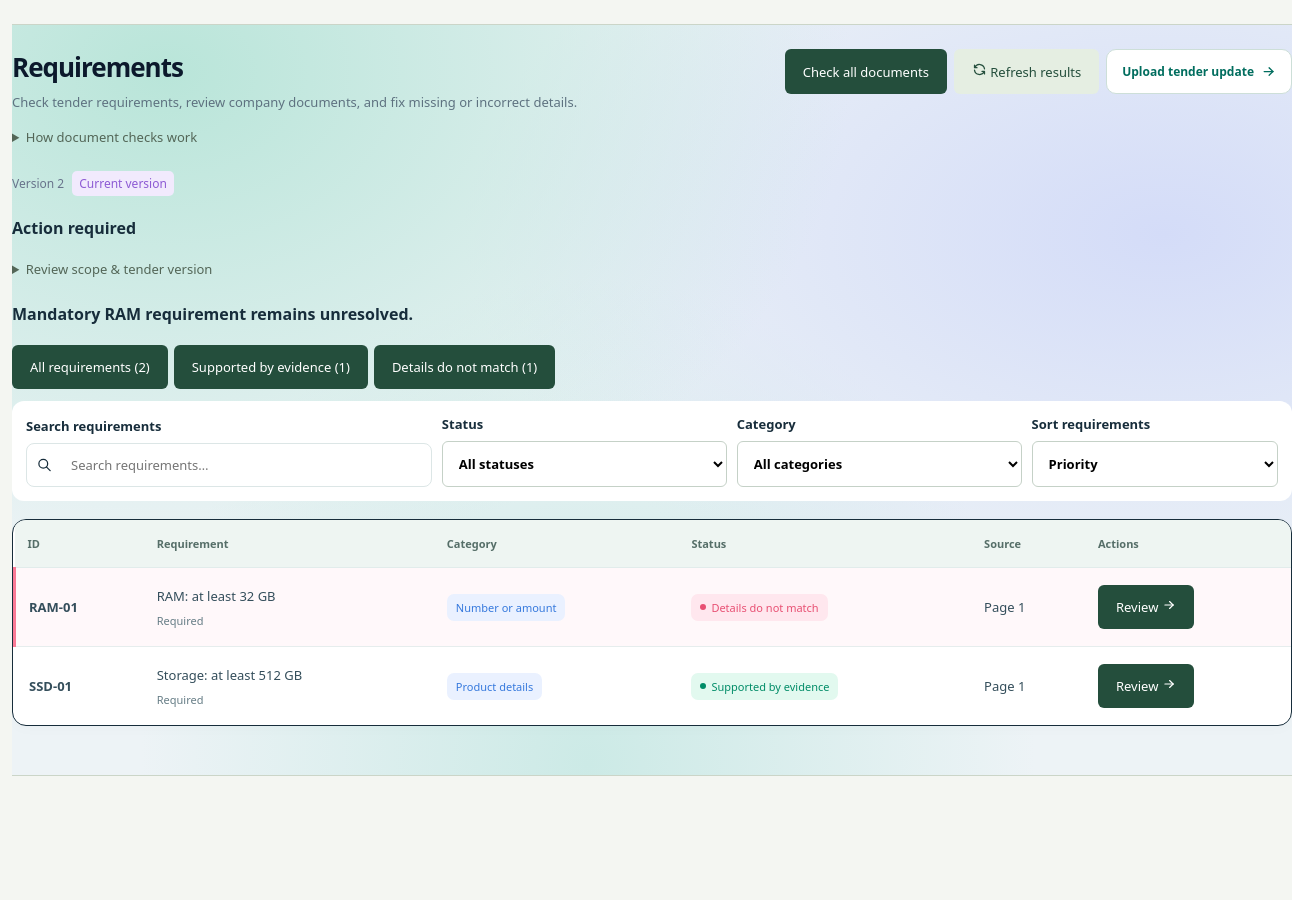
Test case: supplier dashboard › does not show bulk success on API failure and allows retry after refreshing
Expected: the button with aria-label "Review requirement RAM-01" is shown, x1=1098 y1=585 x2=1194 y2=629
Click the button "Check all documents": (866,72) x1=785 y1=49 x2=947 y2=94
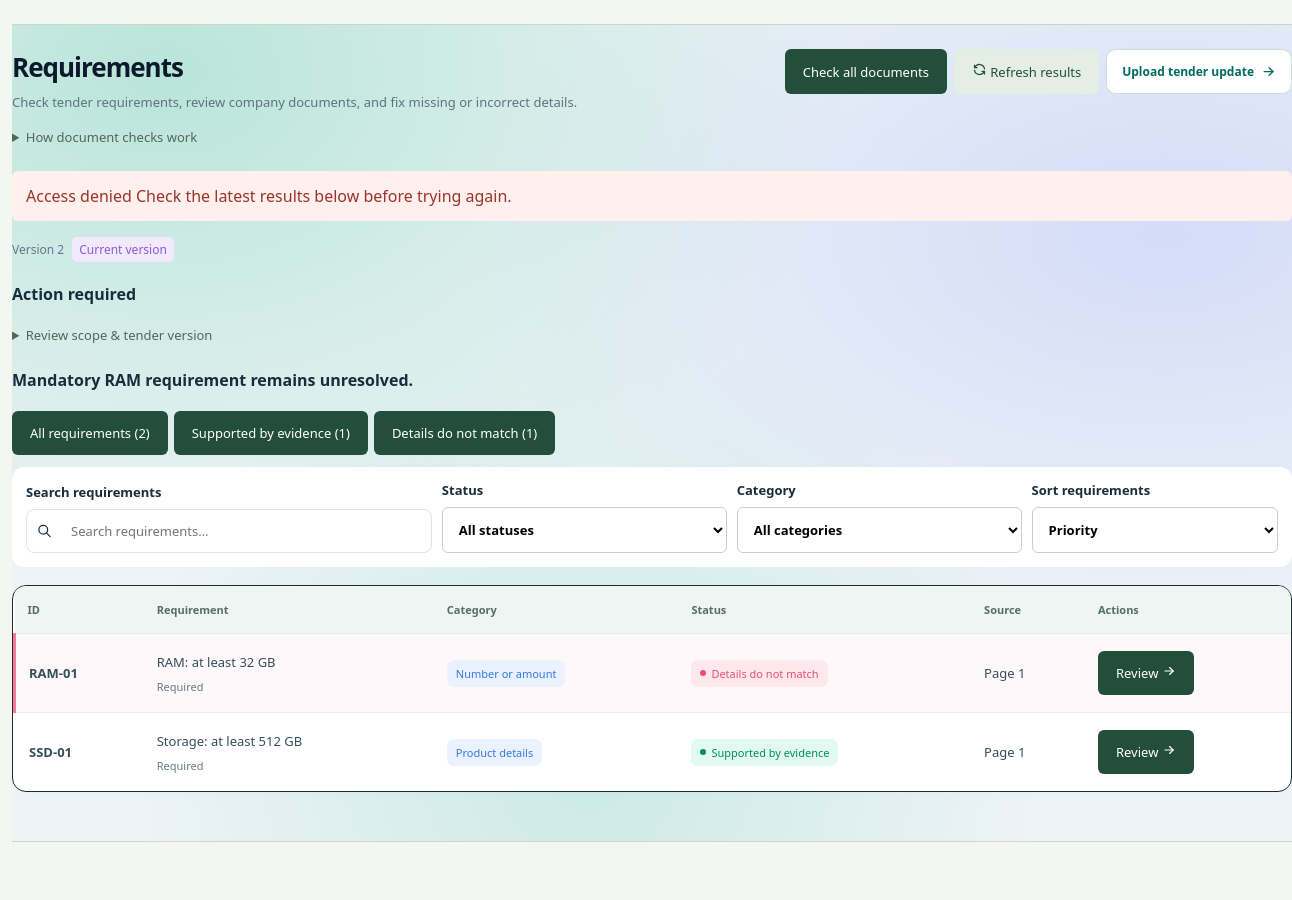
Expected: the message shows "Access denied", x1=26 y1=185 x2=132 y2=207
